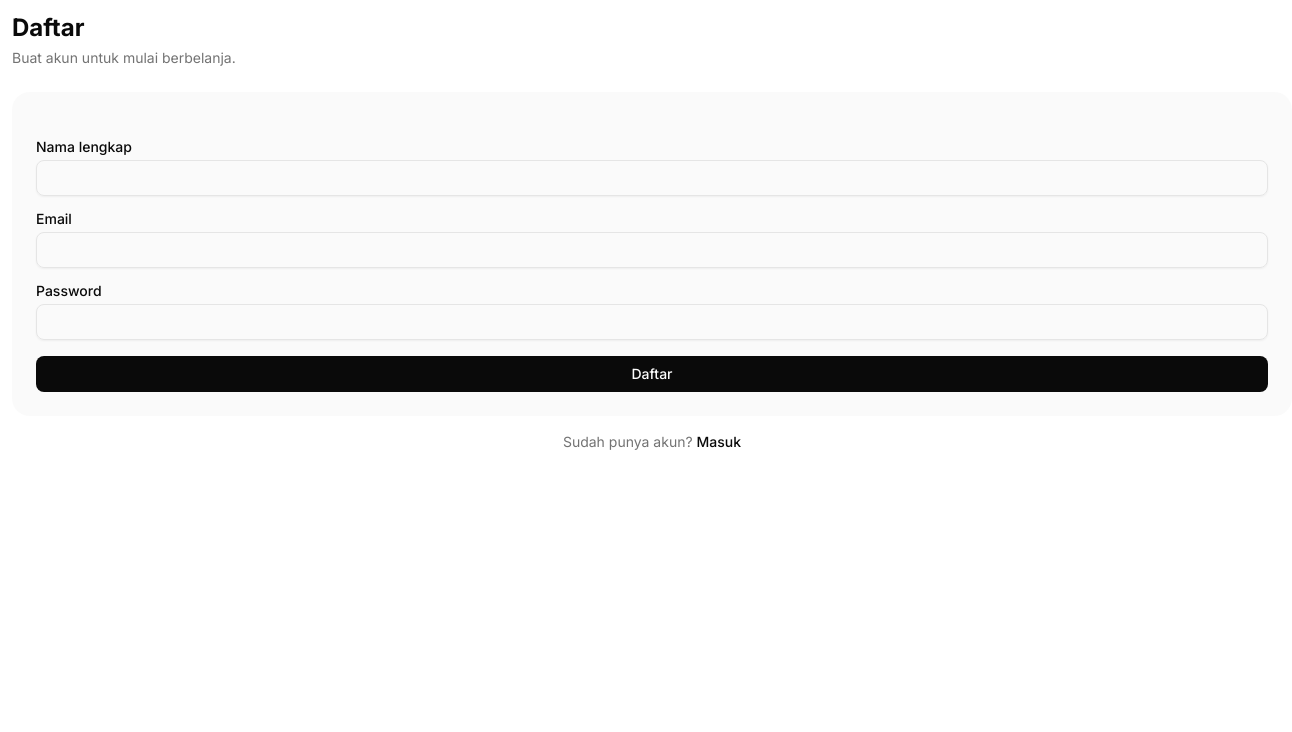
Test case: RegisterPage › shows validation errors on empty submit and does not navigate
Click the button "Daftar". click: (652, 374)
box: [36,356,1268,392]
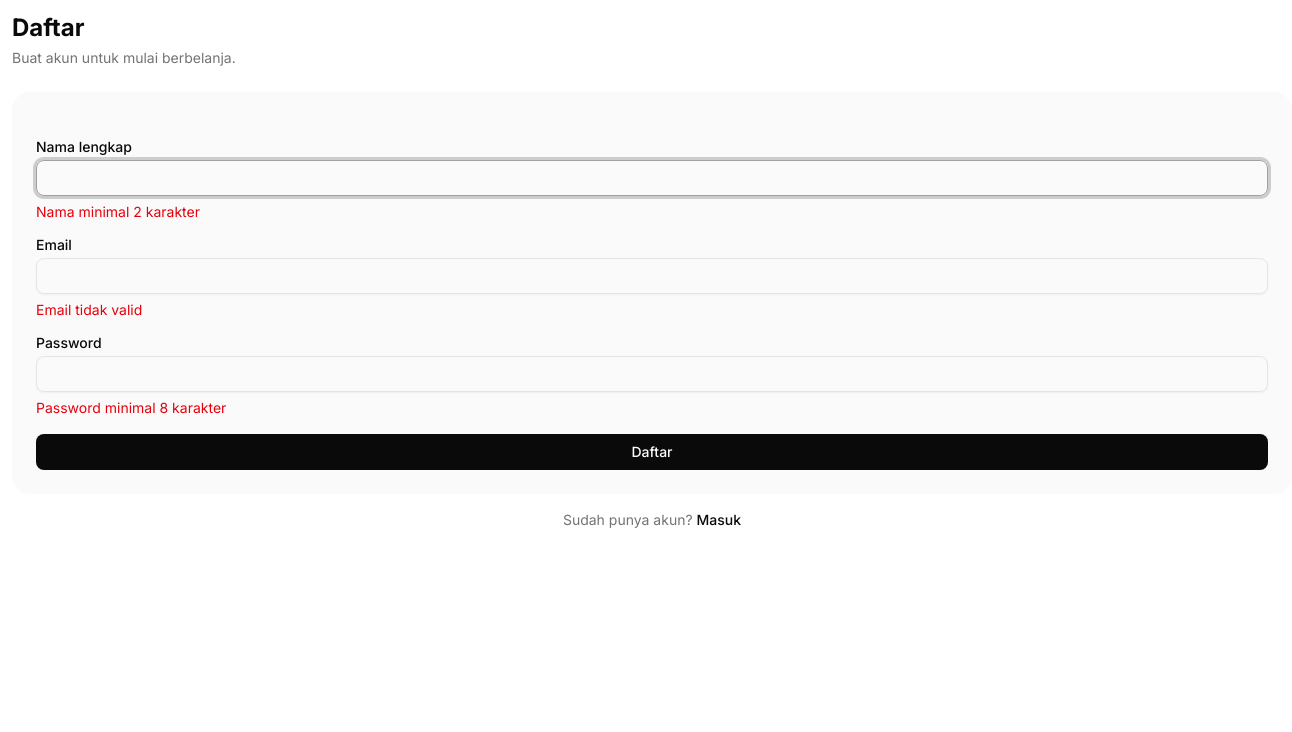
Now the text "Nama minimal 2 karakter" is shown, box [36,203,200,220]
Now the text "Email tidak valid" is shown, box [36,301,142,318]
